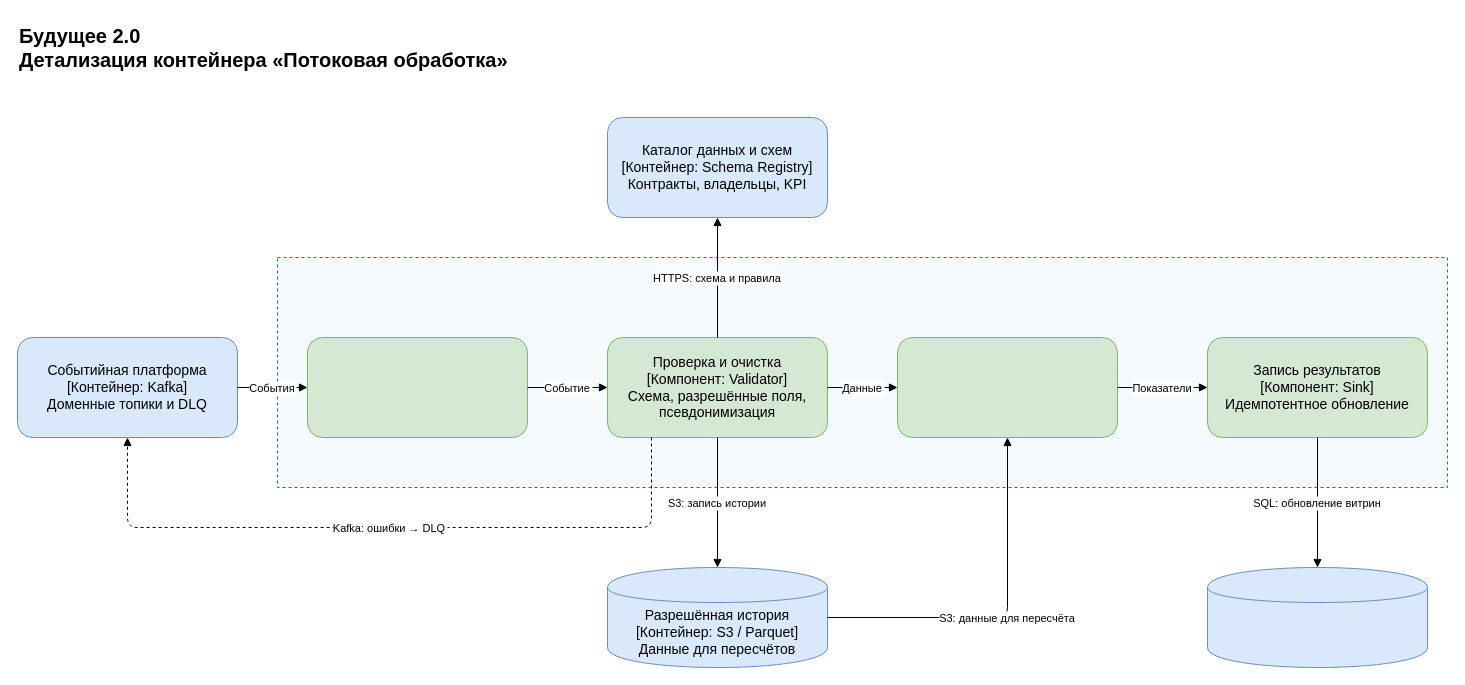
Image size: 1465x685. Some labels were removed from this diagram. The centre of each missing label's shape, as x and y in pixels:
"Доменные витрины [Контейнер: ClickHouse] Данные для отчётов" belongs at (1317,617).
"Приём событий [Компонент: Kafka source] Чтение, удаление дублей" belongs at (417,387).
"Расчёт показателей [Компонент: Aggregator] Доменные KPI, учёт поздних событий" belongs at (1007,387).
